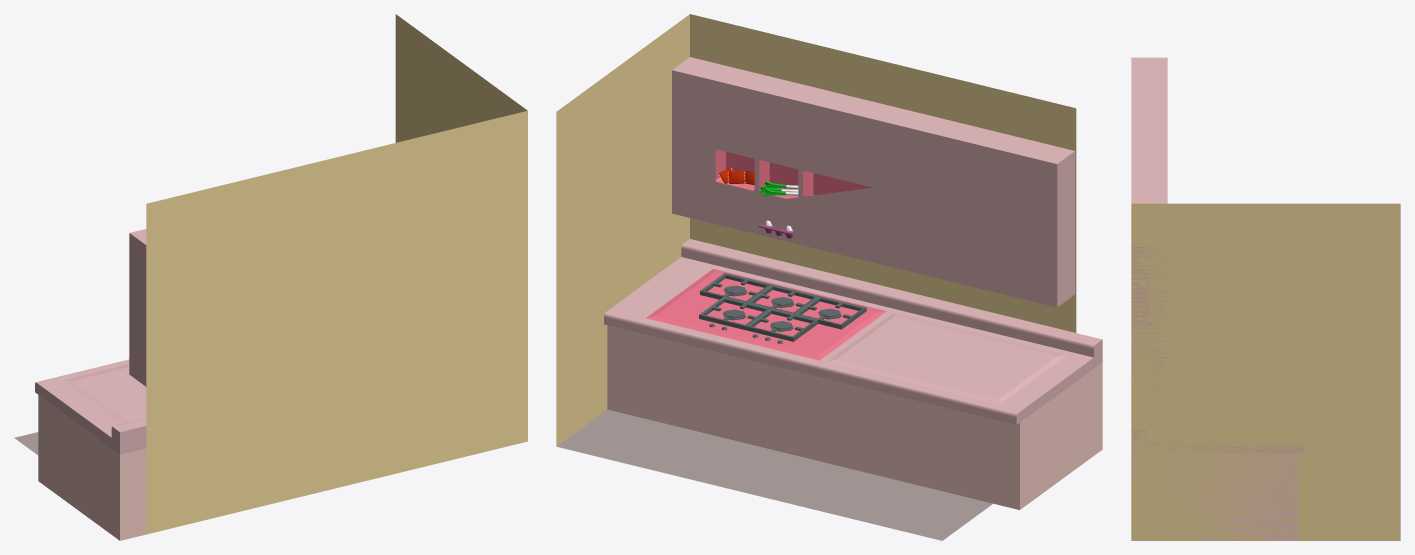
The model's file is background_smooth.fbx.
3 views of the same model, side by side, from view 1: azimuth 30°, elevation 25°; view 2: azimuth 150°, elevation 25°; view 3: azimuth 270°, elevation 25° (orthographic).
Visible parts, largest first — view 1: BACKGROUND, STOVE; view 2: BACKGROUND, STOVE, STOVE.001; view 3: BACKGROUND, STOVE.
Part boxes in pixels (x1=…): BACKGROUND: x1=14, y1=14, x2=527, y2=534; STOVE: x1=35, y1=359, x2=146, y2=540; BACKGROUND: x1=556, y1=14, x2=1076, y2=540; STOVE: x1=604, y1=239, x2=1102, y2=509; STOVE.001: x1=699, y1=273, x2=866, y2=343; BACKGROUND: x1=1131, y1=57, x2=1400, y2=540; STOVE: x1=1131, y1=430, x2=1304, y2=540.
Size of the model in its own units: 2272 by 1761 by 1276.
